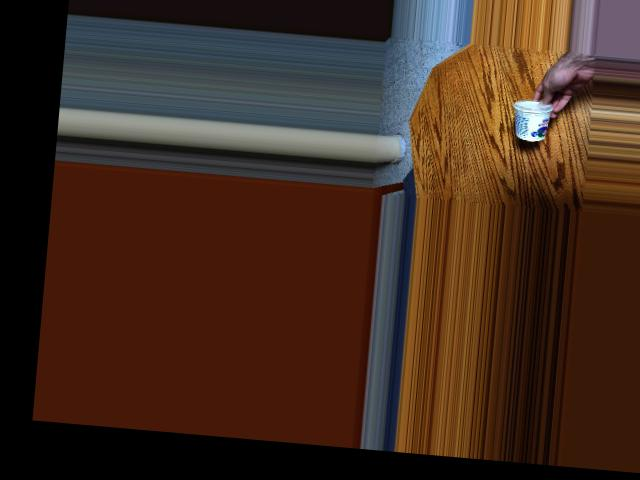cotage: (504, 89, 558, 140)
